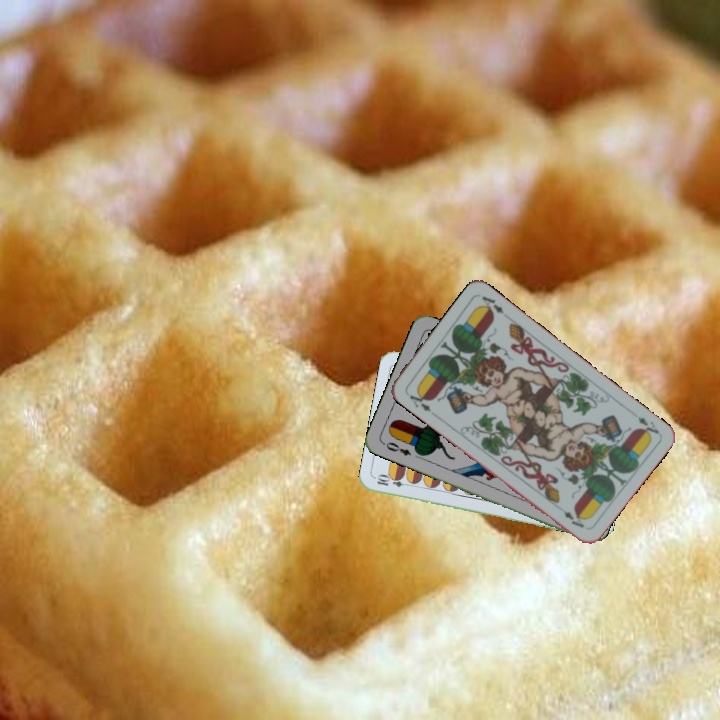E10: (373, 473, 414, 490)
EA: (402, 386, 433, 414), (634, 413, 662, 439)
EO: (379, 438, 414, 458)
